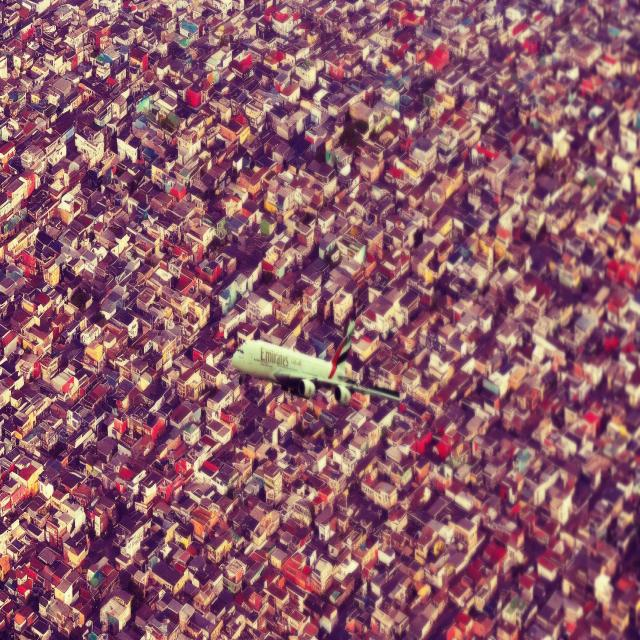airplane: (230, 317, 408, 409)
